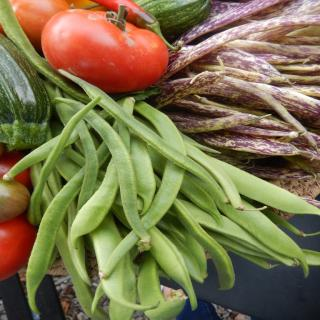tomato: (40, 2, 173, 92)
